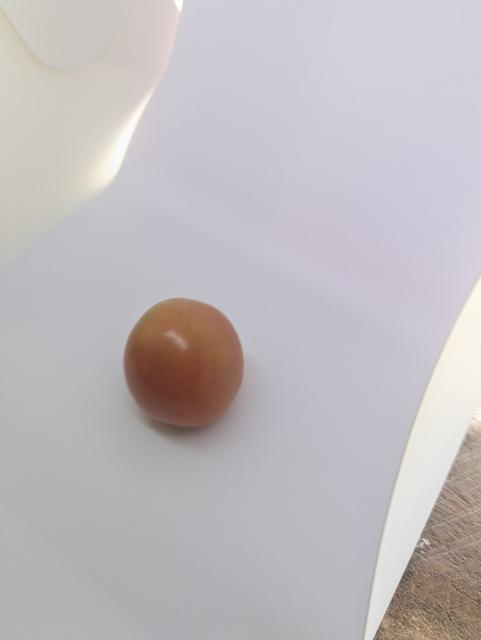turning: (122, 293, 250, 430)
